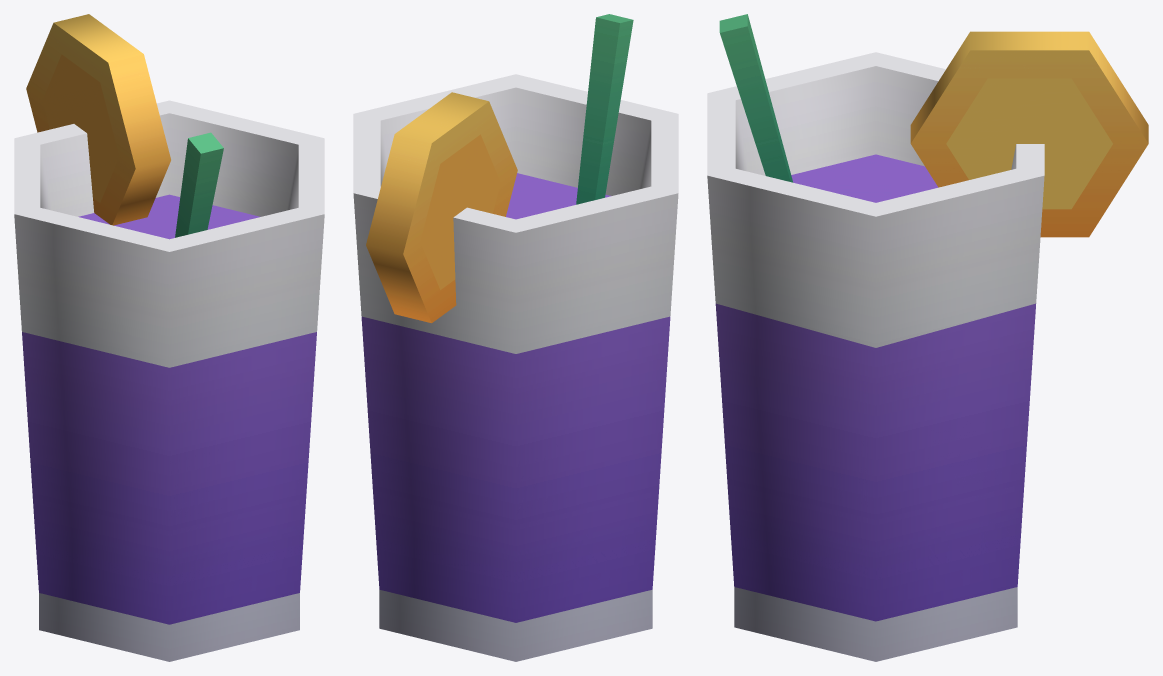
File: sodaglass.glb
3 renders of one model, left to right at view 1: azimuth 30°, elevation 25°; view 2: azimuth 150°, elevation 25°; view 3: azimuth 270°, elevation 25°, orthographic. The views are drawn at different scales.
Visible parts, largest first — view 1: soda-glass, lemon, straw; view 2: soda-glass, lemon, straw; view 3: soda-glass, lemon, straw.
Boxes of the visible parts, left/top/right/bottom form: soda-glass: left=14, top=100, right=324, bottom=661; lemon: left=26, top=14, right=170, bottom=225; straw: left=175, top=132, right=223, bottom=237; soda-glass: left=353, top=74, right=678, bottom=661; lemon: left=366, top=92, right=517, bottom=323; straw: left=576, top=14, right=633, bottom=204; soda-glass: left=707, top=52, right=1044, bottom=661; lemon: left=910, top=31, right=1148, bottom=237; straw: left=719, top=14, right=793, bottom=182.
Bounding box in the file's own units: 0.0887 × 0.14 × 0.1005.
Materials: 1 (1 with a texture image).
